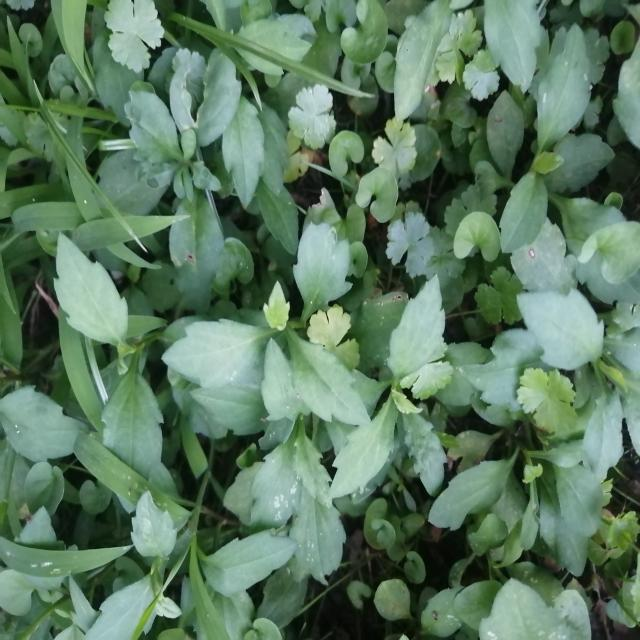Indian aster: (184, 227, 361, 577), (42, 216, 186, 482)
